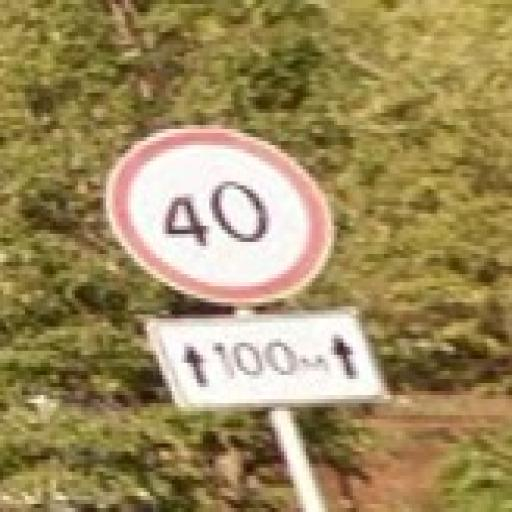traffic_sign: (107, 126, 335, 307)
